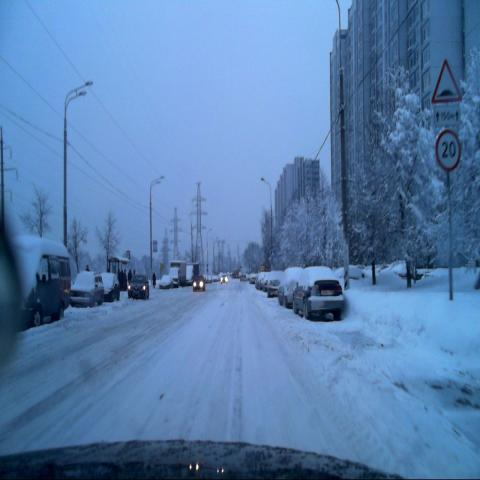8_2_1: (435, 105, 460, 126)
